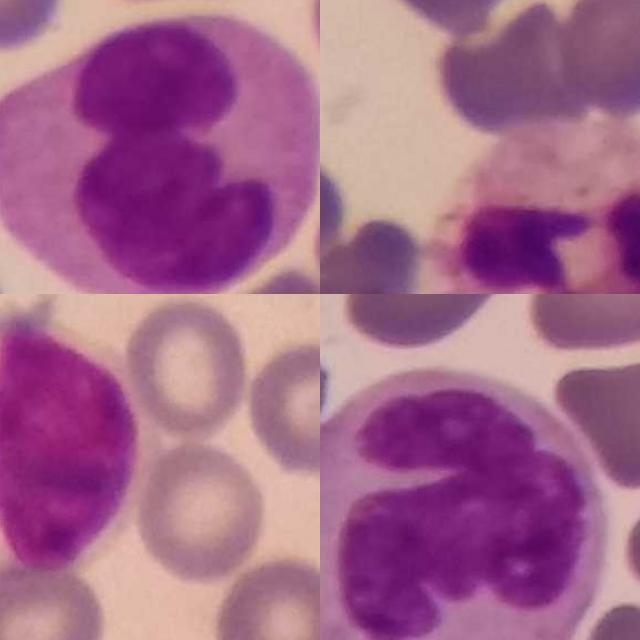Lymphocyte: (0, 309, 159, 576)
Monocyte: (0, 6, 320, 294), (320, 365, 607, 640)
Neutrophil: (431, 121, 640, 294)
